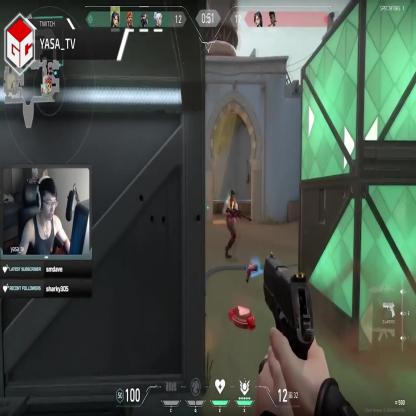enemy: (222, 191, 239, 260)
enemy_head: (230, 190, 235, 203)
